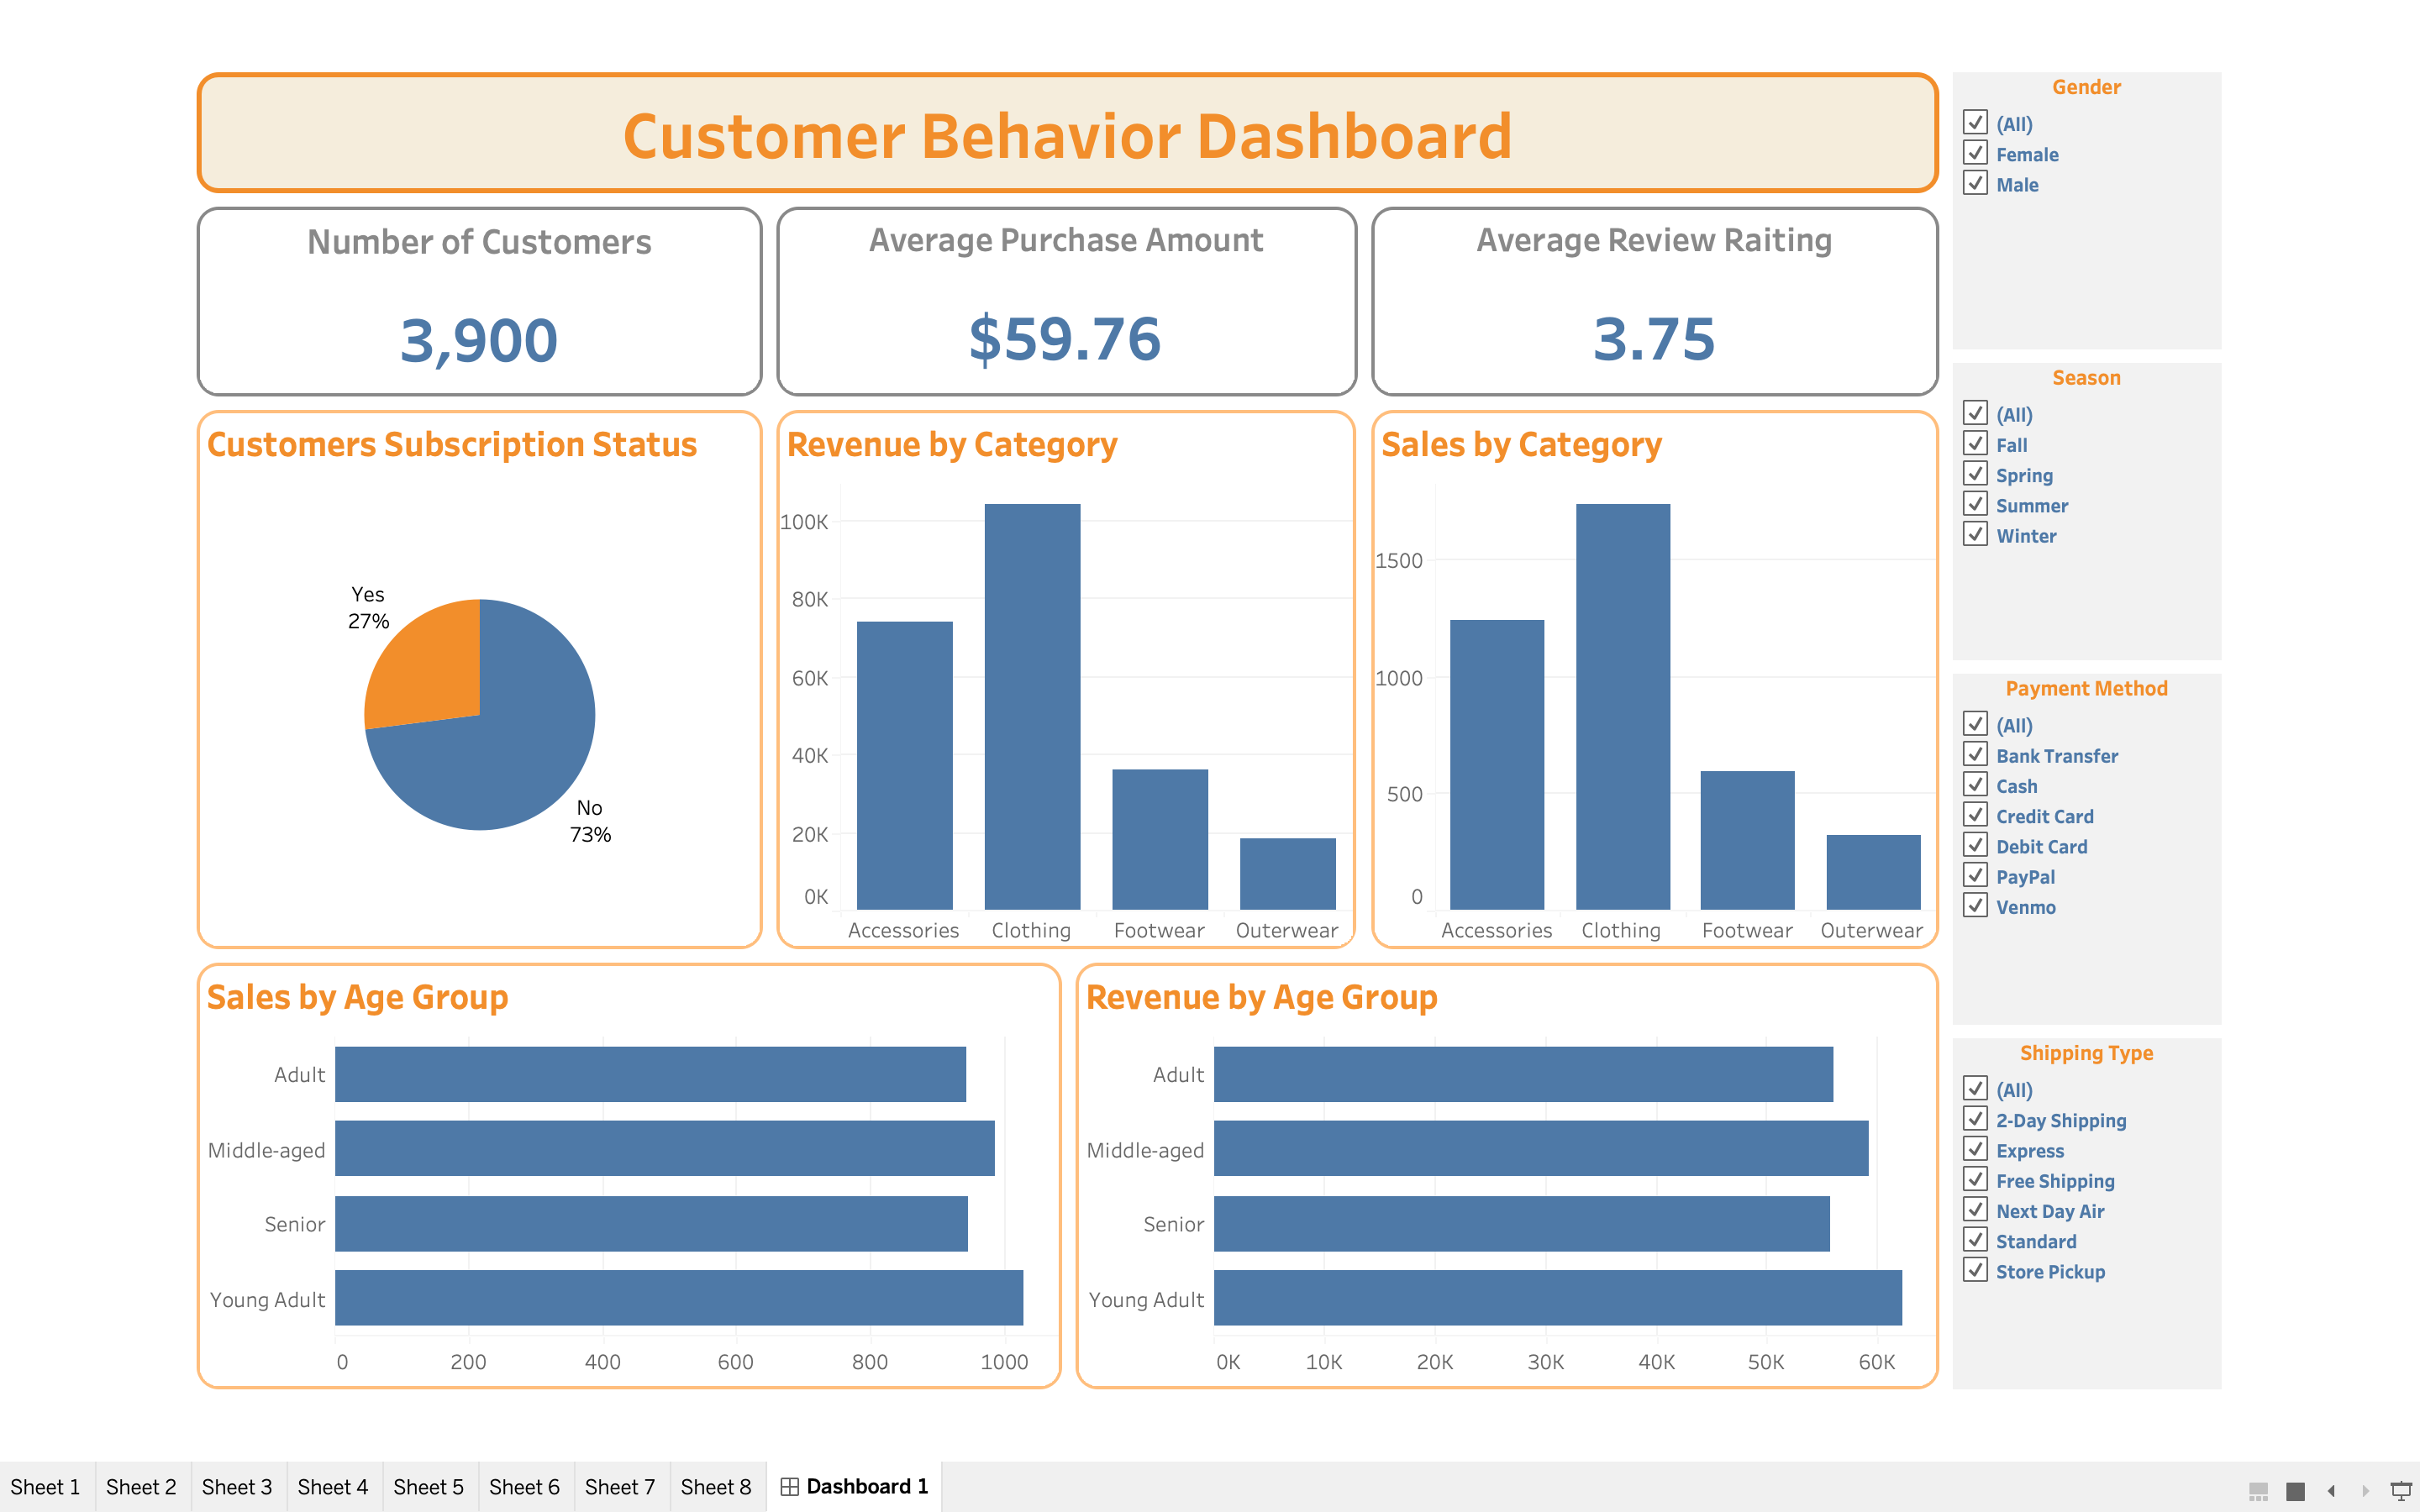

Layout of this report page (visuals, bound fields, positions):
{"tool":"tableau","page":{"name":"Dashboard 1","canvas":[1229,808],"ordinal":0},"visuals":[{"type":"text","box":[8,8,1045,80]},{"type":"filter","title":"Sheet 1","param":"[federated.0fi16kb1fe156916w58ao0fm1g9m].[none:gender:nk]","box":[1053,8,168,173]},{"type":"worksheet","title":"Sheet 1","mark":"Text","box":[8,88,345.4,121.4]},{"type":"worksheet","title":"Sheet 2","mark":"Automatic","box":[353.4,88,353.6,121.4]},{"type":"worksheet","title":"Sheet 3","mark":"Automatic","box":[707,88,346,121.4]},{"type":"filter","title":"Sheet 1","param":"[federated.0fi16kb1fe156916w58ao0fm1g9m].[none:season:nk]","box":[1053,181,168,185]},{"type":"worksheet","title":"Sheet 4","mark":"Pie","box":[8,209.4,345.4,328.6]},{"type":"worksheet","title":"Sheet 5","mark":"Automatic","rows":["purchase_amount"],"cols":["category"],"box":[353.4,209.4,353.4,328.6]},{"type":"worksheet","title":"Sheet 6","mark":"Automatic","rows":["Calculation_1588956001980417"],"cols":["category"],"box":[706.9,209.4,346.1,328.6]},{"type":"filter","title":"Sheet 1","param":"[federated.0fi16kb1fe156916w58ao0fm1g9m].[none:payment_method:nk]","box":[1053,366,168,217]},{"type":"worksheet","title":"Sheet 7","mark":"Automatic","rows":["age_group"],"cols":["Calculation_1588956001980417"],"box":[8,538,522.9,262]},{"type":"worksheet","title":"Sheet 8","mark":"Automatic","rows":["age_group"],"cols":["purchase_amount"],"box":[530.9,538,522.1,262]},{"type":"filter","title":"Sheet 1","param":"[federated.0fi16kb1fe156916w58ao0fm1g9m].[none:shipping_type:nk]","box":[1053,583,168,217]}]}

Visuals, with their boxes on the page's 1229x808 design canvas (x1, y1, x2, y2). These are canvas units, not pixel positions in the 2420x1512 screenshot, which may show the page scaled, cropped or inside an application window:
text: locate(8, 8, 1053, 88)
"Sheet 1" filter: locate(1053, 8, 1221, 181)
"Sheet 1" worksheet (Text marks): locate(8, 88, 353, 209)
"Sheet 2" worksheet: locate(353, 88, 707, 209)
"Sheet 3" worksheet: locate(707, 88, 1053, 209)
"Sheet 1" filter: locate(1053, 181, 1221, 366)
"Sheet 4" worksheet (Pie marks): locate(8, 209, 353, 538)
"Sheet 5" worksheet: locate(353, 209, 707, 538)
"Sheet 6" worksheet: locate(707, 209, 1053, 538)
"Sheet 1" filter: locate(1053, 366, 1221, 583)
"Sheet 7" worksheet: locate(8, 538, 531, 800)
"Sheet 8" worksheet: locate(531, 538, 1053, 800)
"Sheet 1" filter: locate(1053, 583, 1221, 800)
